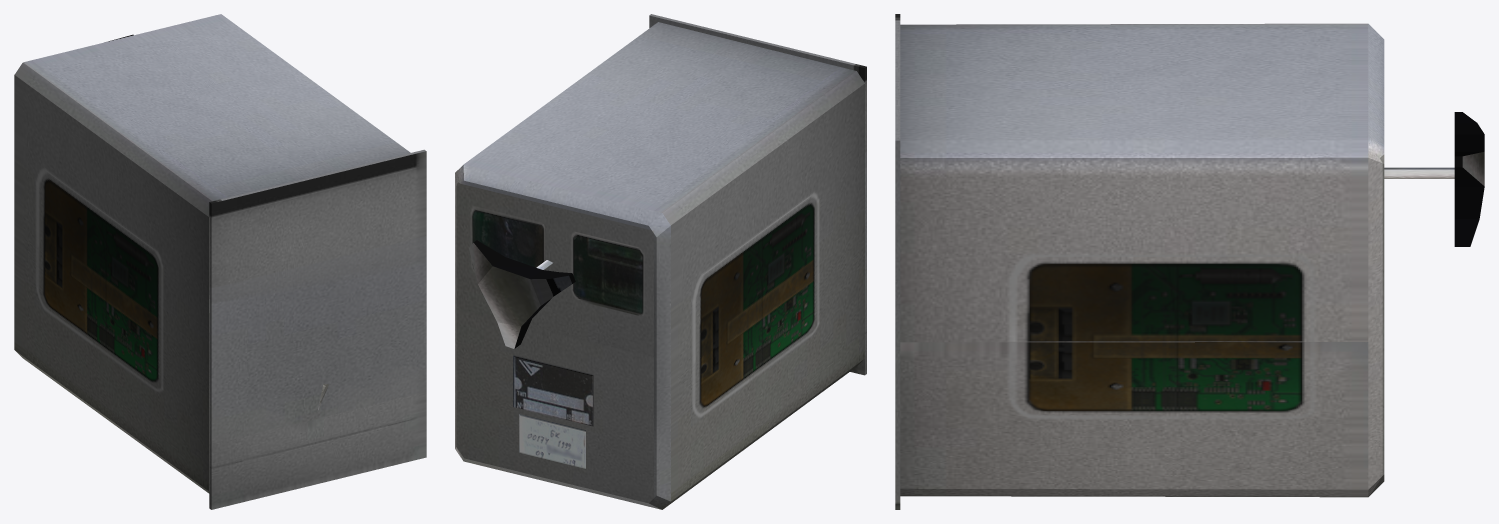
File: krutelka_glass.FBX
The picture shows the model from 3 angles, left to right: view 1: azimuth 30°, elevation 25°; view 2: azimuth 150°, elevation 25°; view 3: azimuth 270°, elevation 25°; orthographic projection. The views are drawn at different scales.
Parts seen in each view (by area): view 1: krutelka_glass; view 2: krutelka_glass; view 3: krutelka_glass.
Boxes of the visible parts, bbox=[...] form: krutelka_glass: bbox=[14, 14, 426, 509]; krutelka_glass: bbox=[455, 14, 866, 509]; krutelka_glass: bbox=[895, 14, 1484, 509].
Bounding box in the file's own units: 457 × 620 × 896.
Materials: 1 (1 with a texture image).
